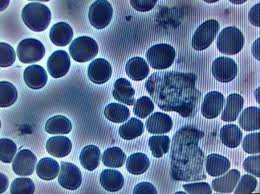Malaria: (191, 18, 218, 51), (21, 3, 51, 32), (146, 42, 178, 69), (217, 24, 244, 56), (70, 36, 99, 63), (211, 56, 238, 85), (77, 144, 104, 171), (88, 1, 113, 30), (201, 88, 223, 120), (16, 37, 45, 61), (59, 160, 81, 191), (22, 63, 48, 89), (44, 134, 73, 157), (124, 56, 151, 80), (47, 50, 70, 78), (88, 59, 113, 84), (222, 91, 242, 122), (50, 21, 73, 47), (146, 111, 172, 133), (118, 118, 144, 140), (45, 115, 72, 136), (100, 169, 124, 192), (102, 145, 125, 168), (126, 152, 149, 175), (1, 79, 19, 108), (36, 158, 58, 181), (104, 104, 130, 123)
